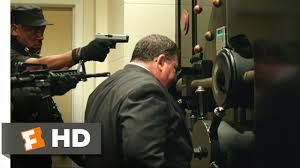gun: (15, 61, 114, 98), (88, 27, 127, 59)
